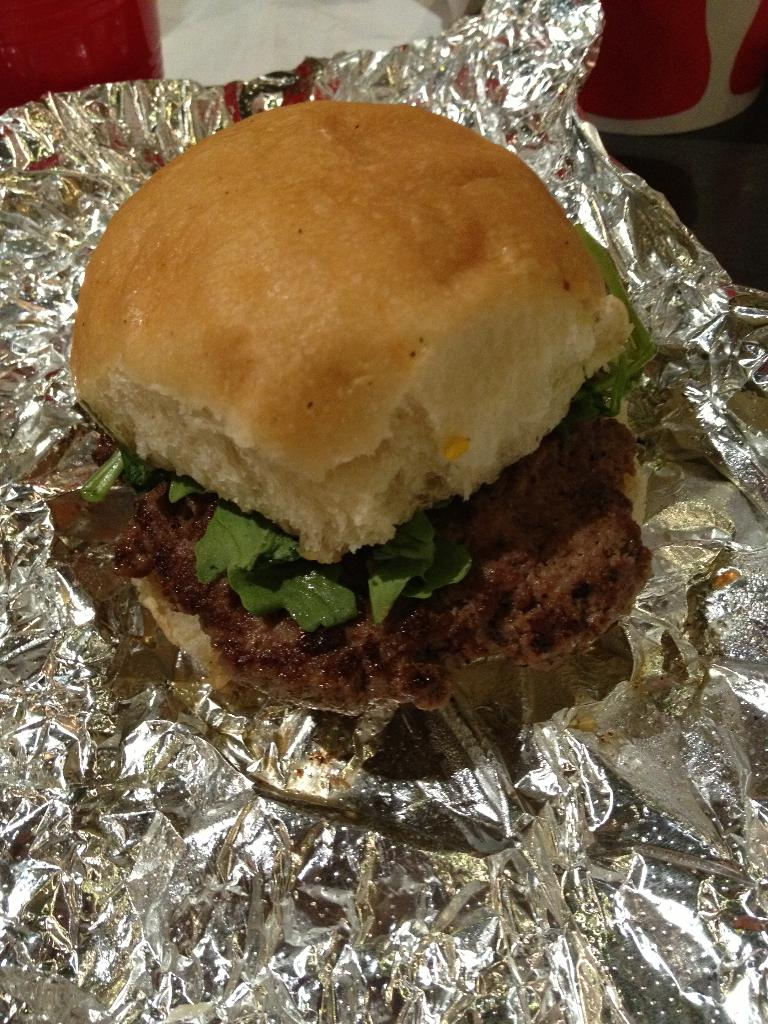Hamburger: (71, 98, 659, 714)
